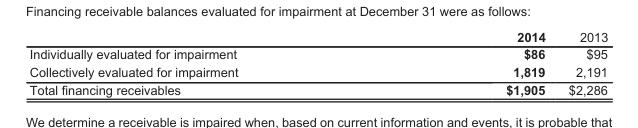table: (28, 28, 607, 96)
table column: (28, 28, 371, 96), (371, 28, 556, 96), (556, 28, 607, 96)
table column header: (28, 28, 607, 45)
table row: (28, 62, 607, 80), (28, 28, 607, 45), (28, 45, 607, 62), (28, 80, 607, 96)
